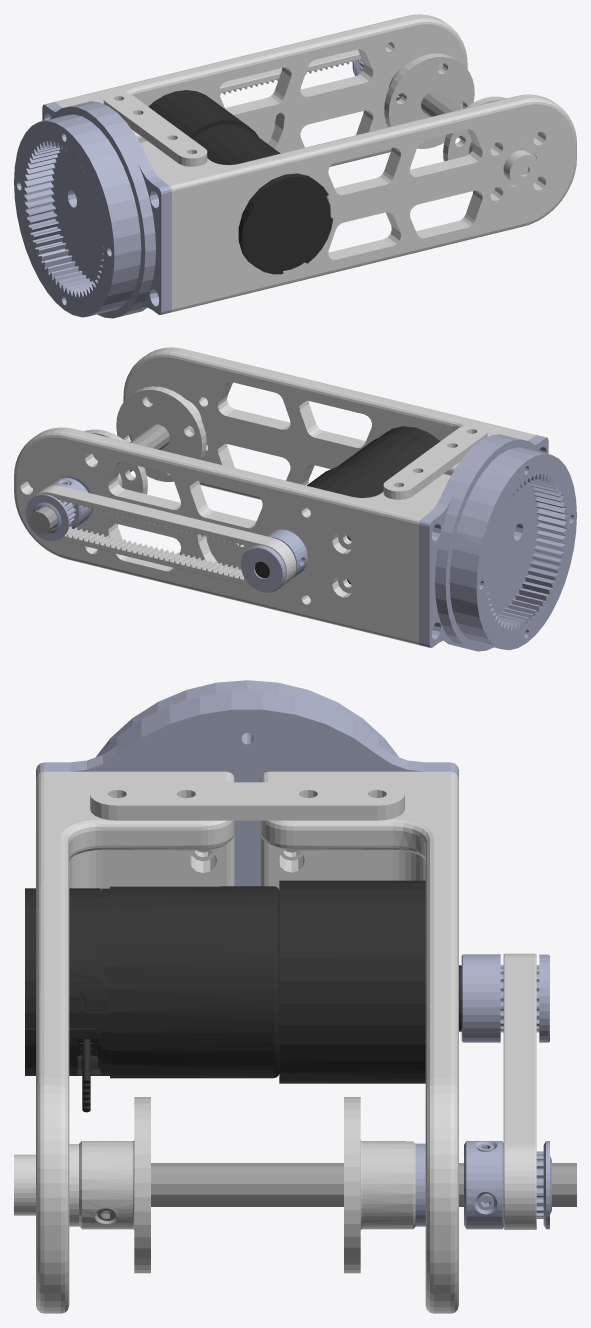
File: back-left-swerve.glb
3 renders of one model, top to bottom at view 1: azimuth 30°, elevation 25°; view 2: azimuth 150°, elevation 25°; view 3: azimuth 270°, elevation 25°, orthographic. The views are drawn at different scales.
Parts seen in each view (by area): view 1: Back Left Swerve; view 2: Back Left Swerve; view 3: Back Left Swerve.
Part boxes in pixels (<box>): Back Left Swerve: <box>14,14,576,318</box>; Back Left Swerve: <box>14,347,576,651</box>; Back Left Swerve: <box>14,680,576,1313</box>.
Bounding box in the file's own units: 0.1695 × 0.0698 × 0.102.
